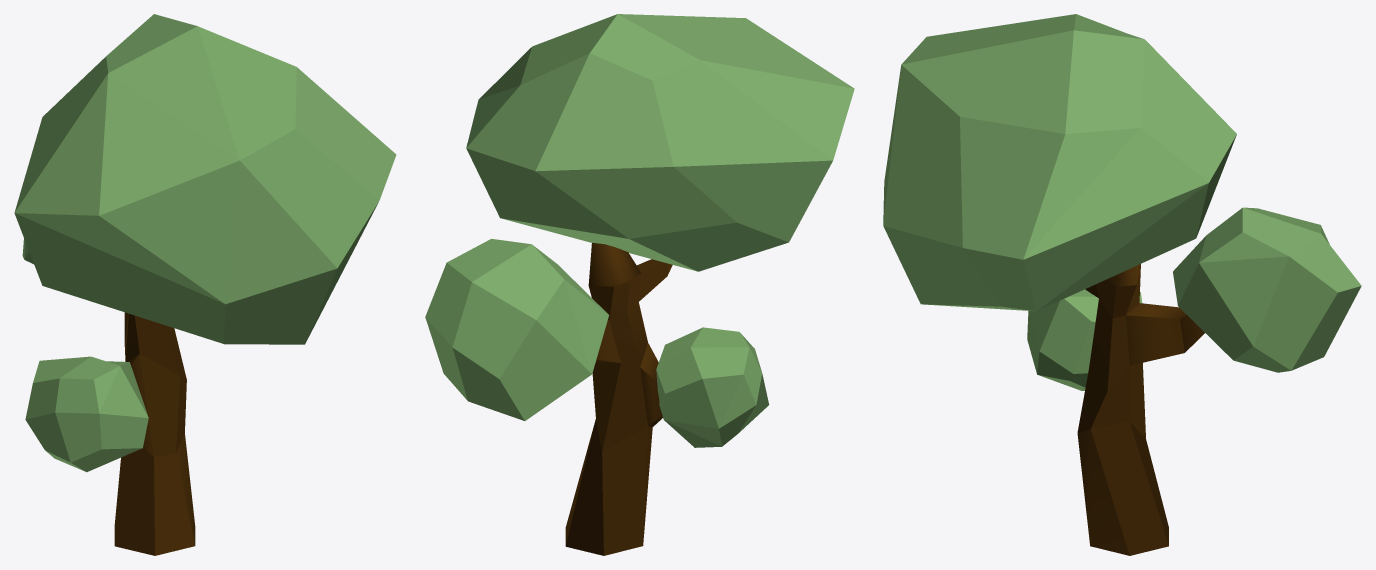
Rendered from tree1.fbx.
3 views of the same model, side by side, from view 1: azimuth 30°, elevation 25°; view 2: azimuth 150°, elevation 25°; view 3: azimuth 270°, elevation 25° (orthographic). The views are drawn at different scales.
Visible parts, largest first — view 1: polySurface185; view 2: polySurface185; view 3: polySurface185.
Part boxes in pixels (x1=…): polySurface185: x1=14, y1=14, x2=396, y2=555; polySurface185: x1=425, y1=14, x2=854, y2=555; polySurface185: x1=883, y1=14, x2=1361, y2=555.
Size of the model in its own units: 1.19 by 1.58 by 1.34.
